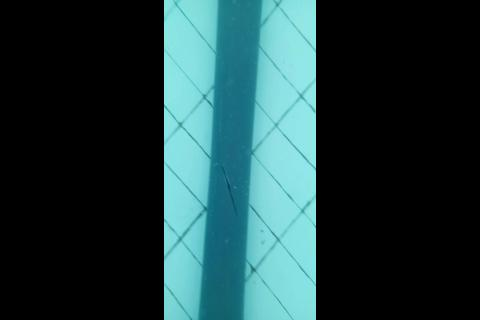keretakan: (220, 164, 239, 217)
